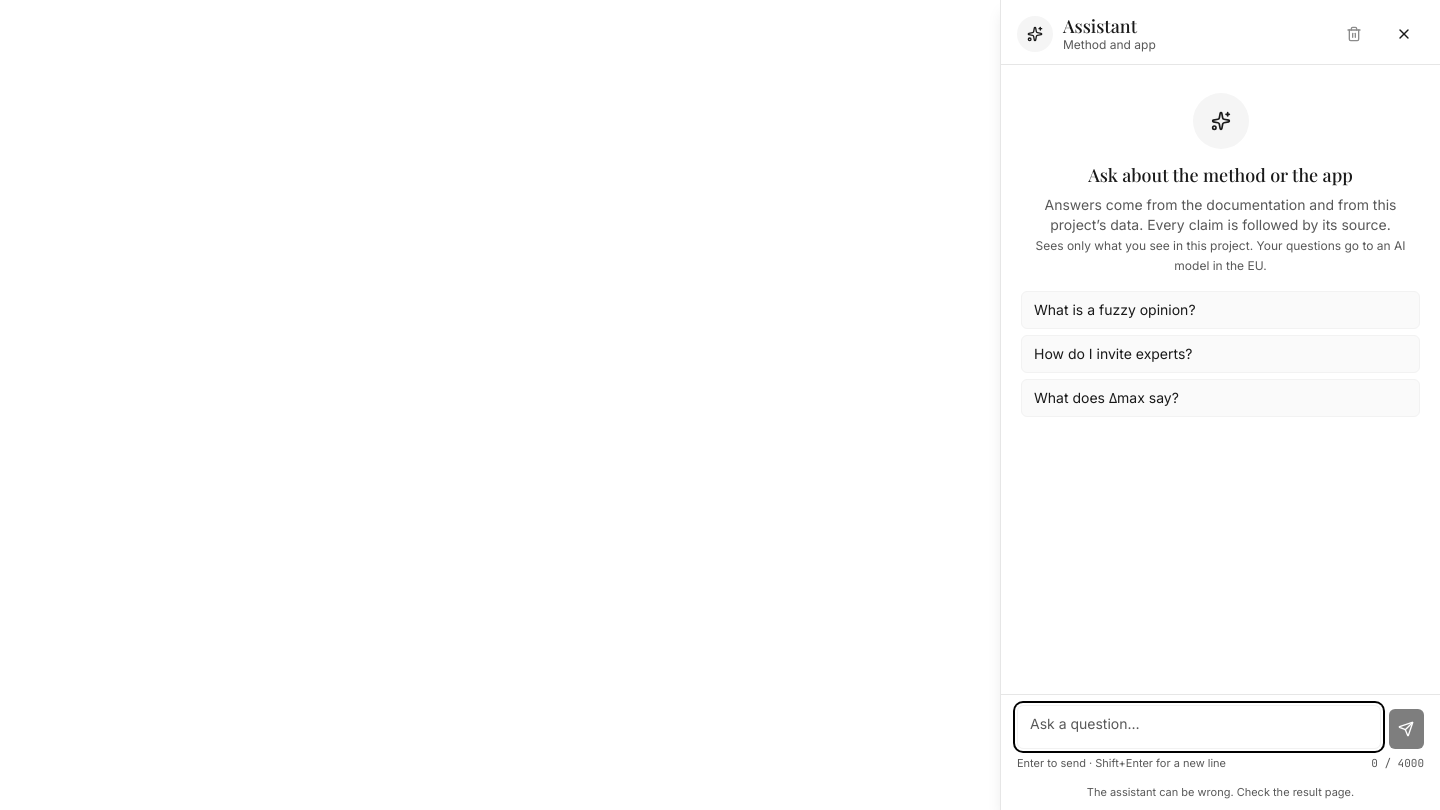
Test: AssistantPanel with the chat hook › puts a refused question back in the box and re-sends that very question on Try again
Type "Why?" into the text box labelled "Ask a question…" at (1199, 727), box [1017, 705, 1381, 749]
Then press Enter
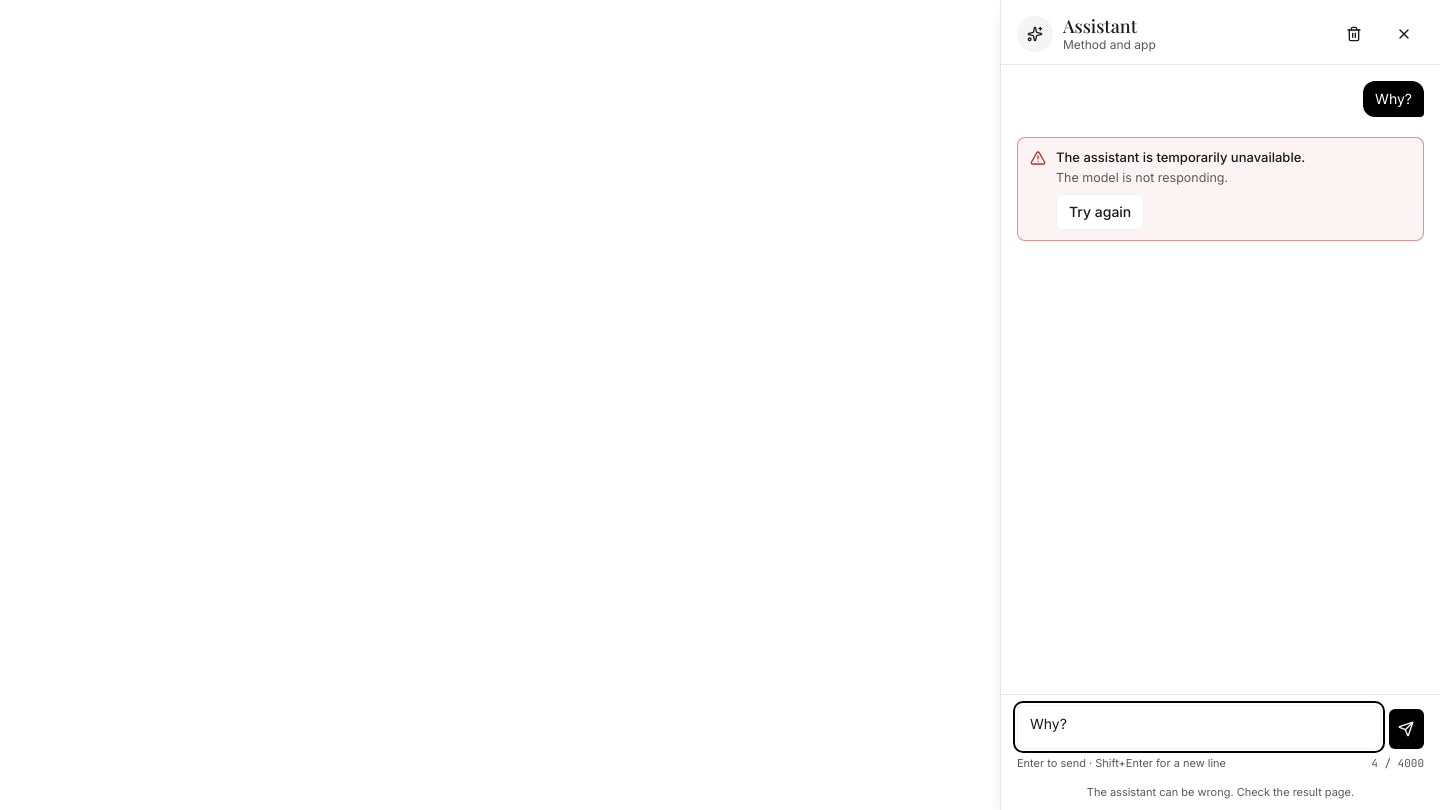
Replace the text in the text box named "Ask a question…" with "a different draft" at (1199, 727), box [1017, 705, 1381, 749]
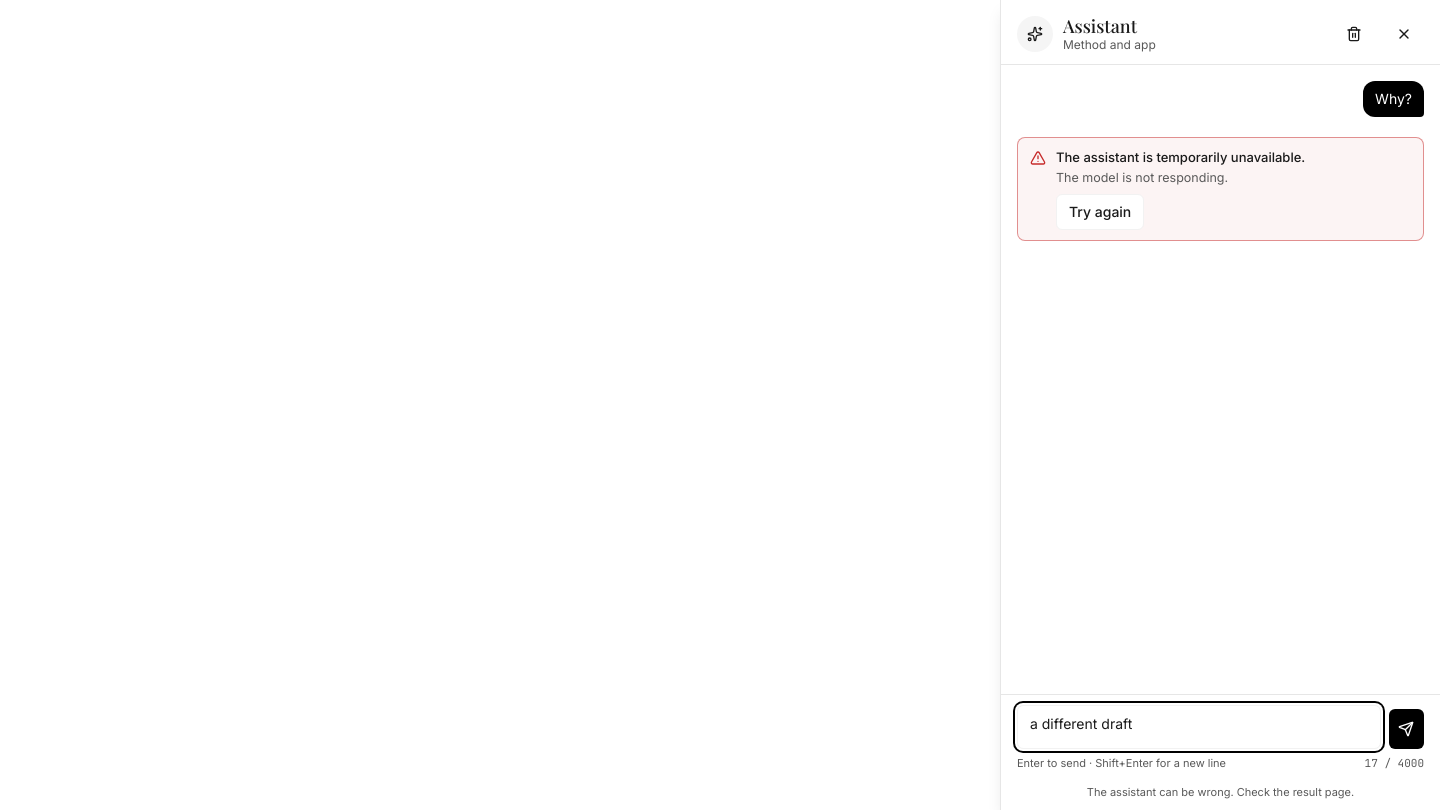
Click the button "Try again" at (1100, 212), box [1056, 194, 1144, 230]
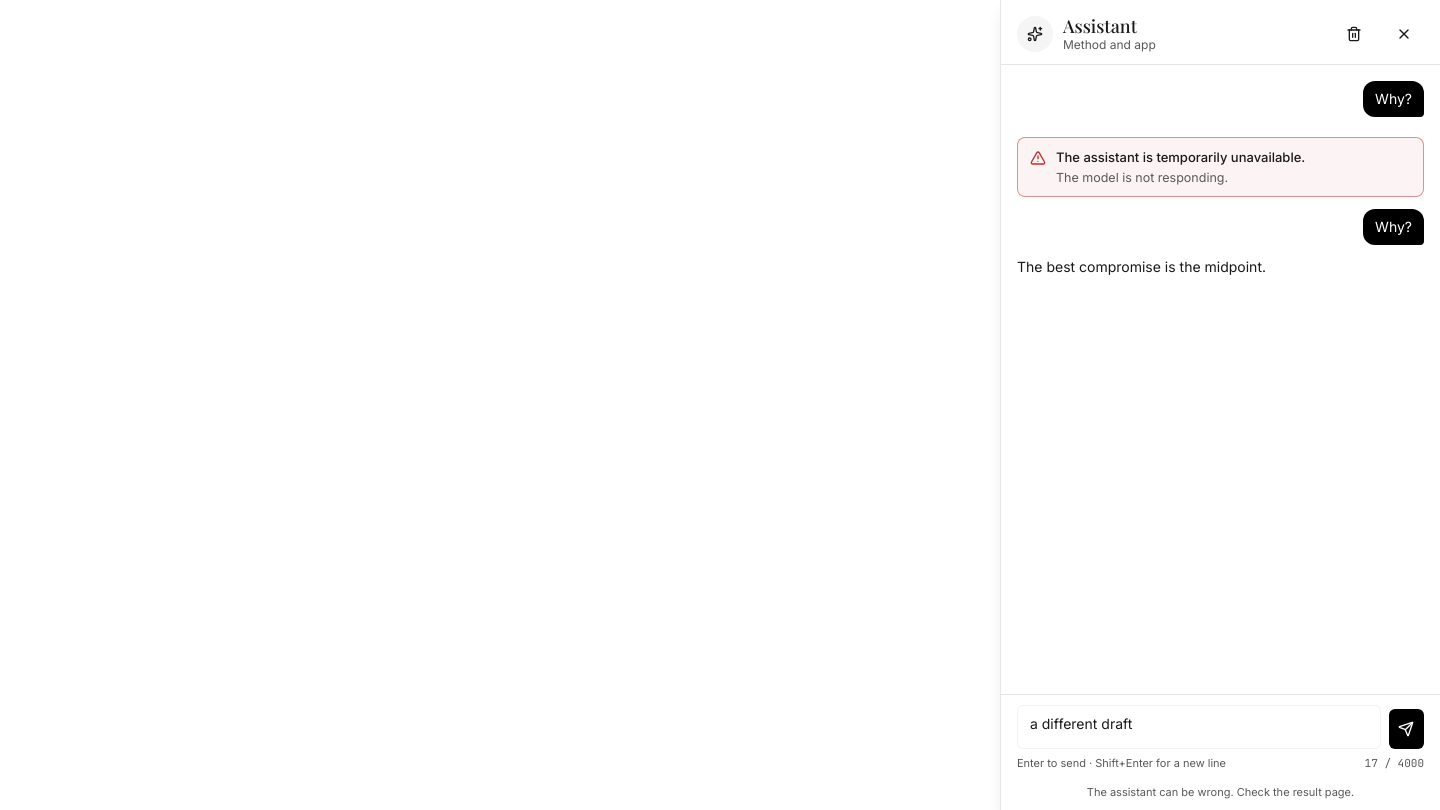
Now the text "The best compromise is the midpoint." is shown, box [1017, 258, 1266, 275]
Now the button "Try again" is gone
